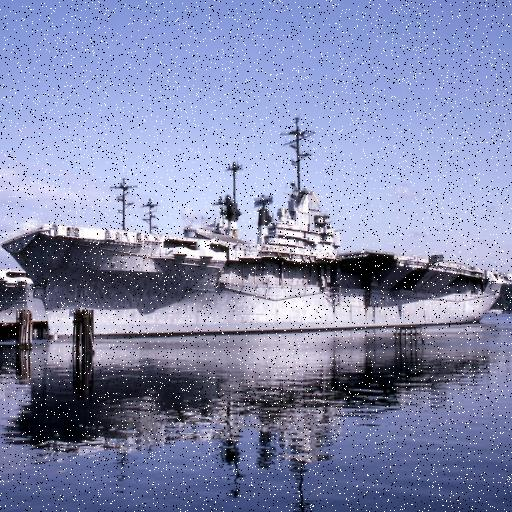Portanaves: (1, 109, 510, 341)
